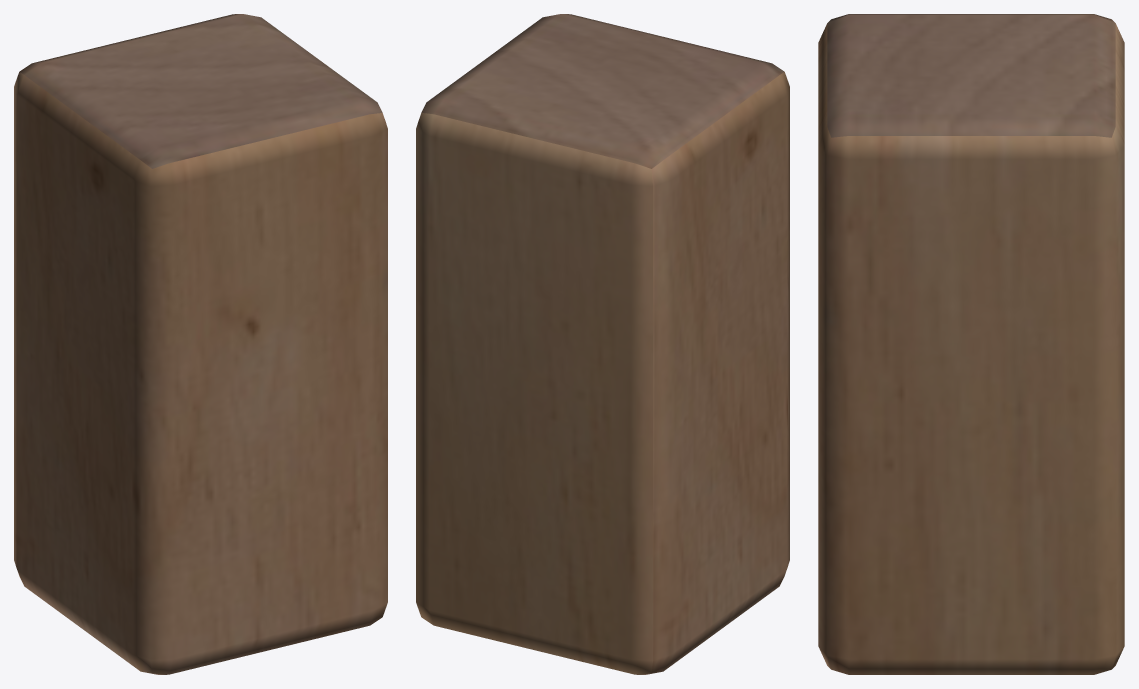
File: pillar.glb
3 views of the same model, side by side, from view 1: azimuth 30°, elevation 25°; view 2: azimuth 150°, elevation 25°; view 3: azimuth 270°, elevation 25° (orthographic). The views are drawn at different scales.
Visible parts, largest first — view 1: Object_2; view 2: Object_2; view 3: Object_2.
Boxes of the visible parts, x1=… form: Object_2: x1=14, y1=14, x2=387, y2=674; Object_2: x1=416, y1=14, x2=789, y2=674; Object_2: x1=818, y1=14, x2=1124, y2=674.
Size of the model in its own units: 3.5 by 7 by 3.5.
1 material, 1 textured.
